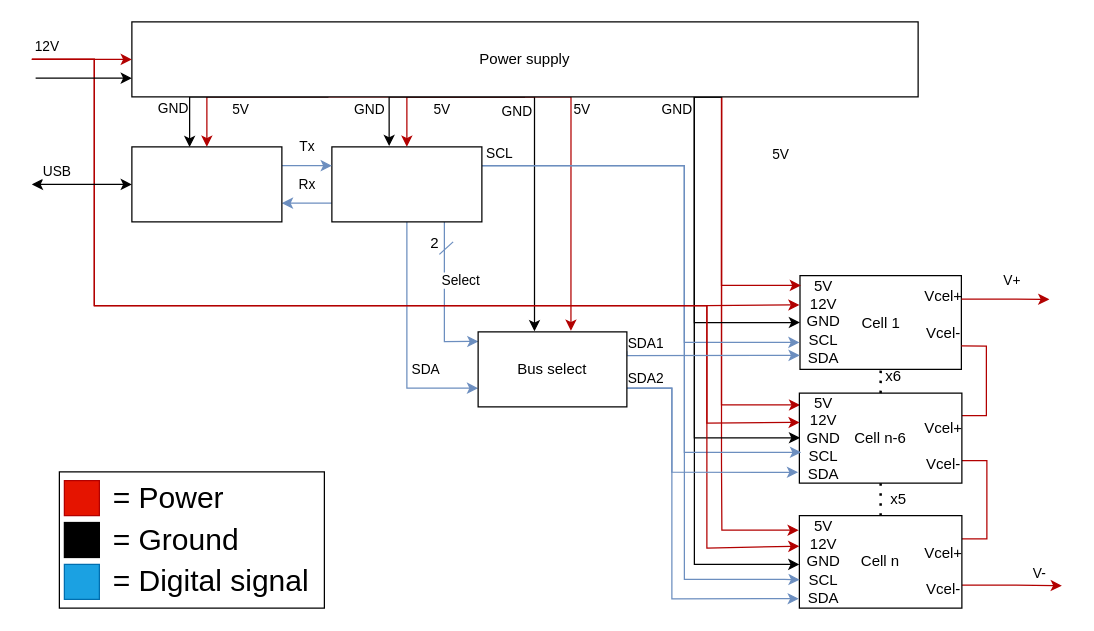
The diagram is 1094 pixels wide and 631 high, and some of its shapes have lost their labels. The shapes that lost their labels are listed below. From the top down, each one's centre as x and y in pixels, then its label:
the point at 206,184: Programming interface
the point at 406,184: MCU
